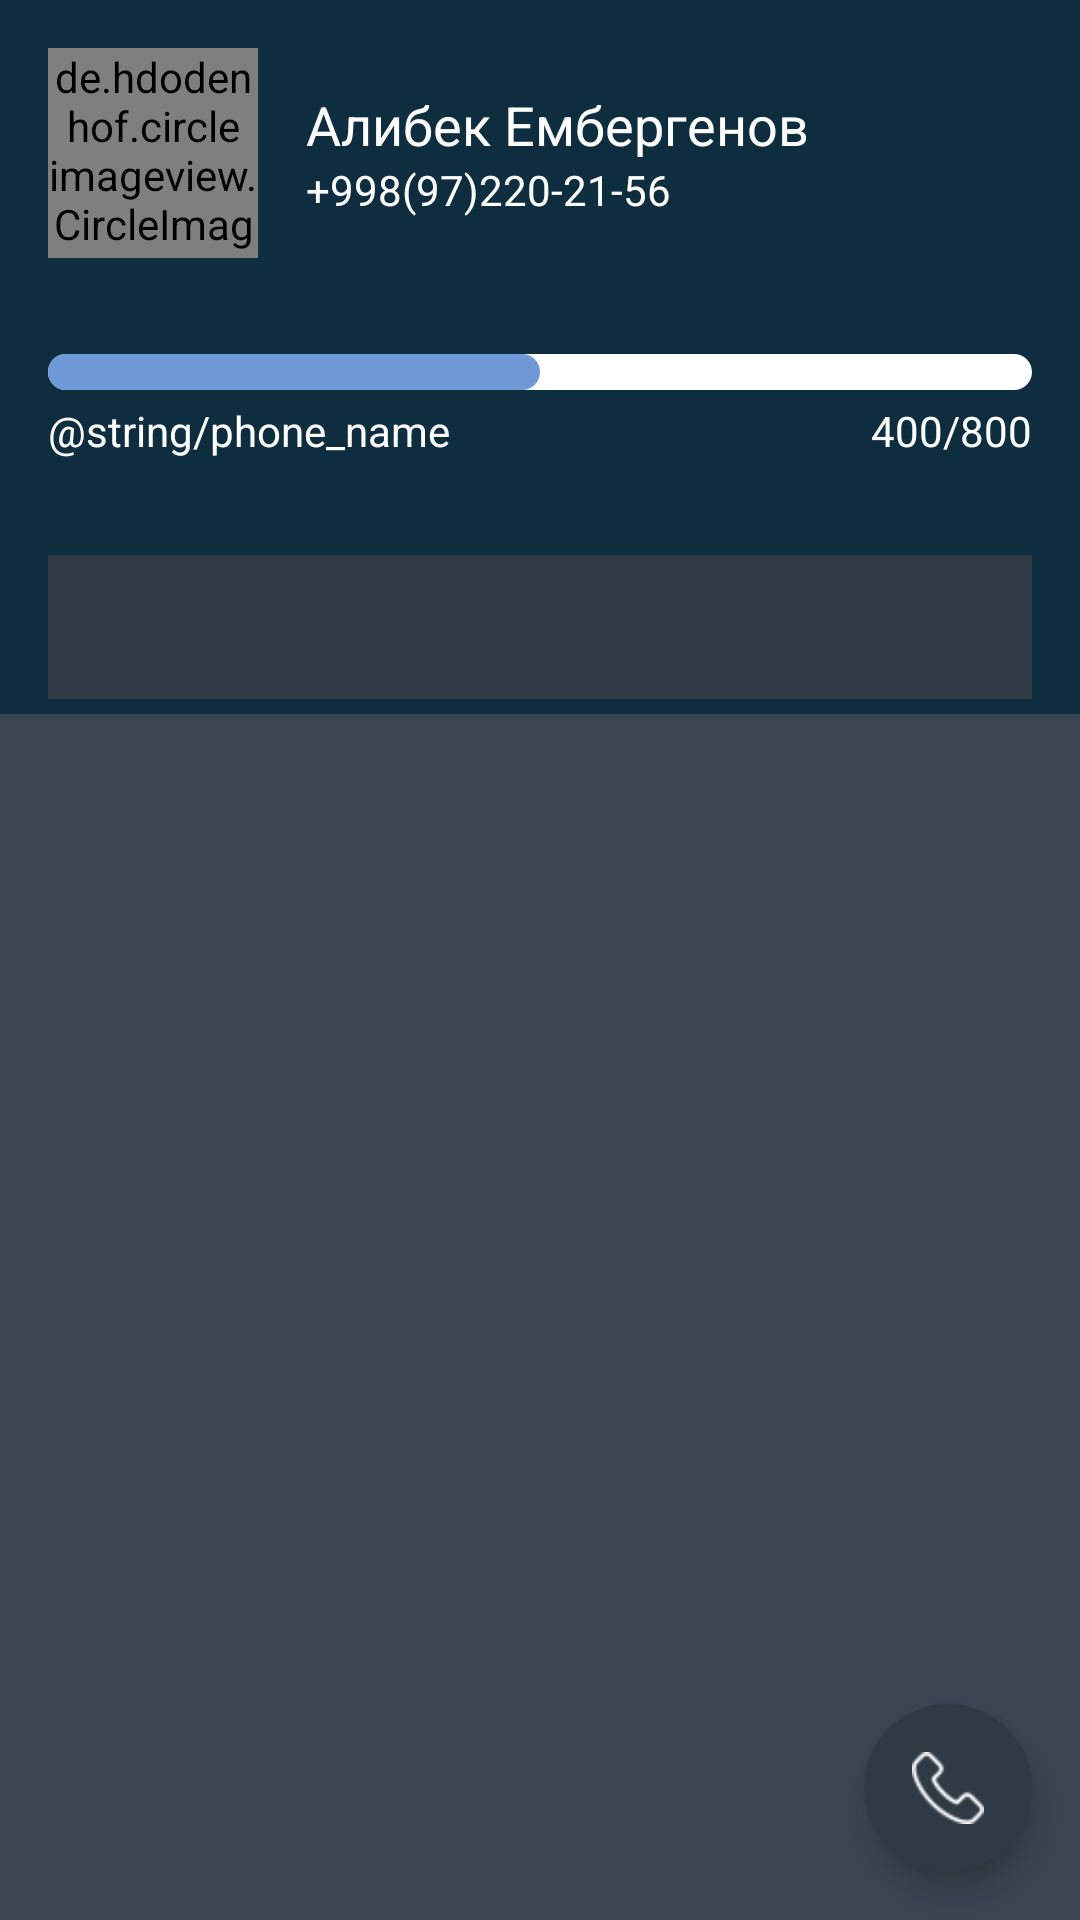

Icon click points for this 1080*1920 phone screenshot, format [x,y]:
telephone: [948,1788]
